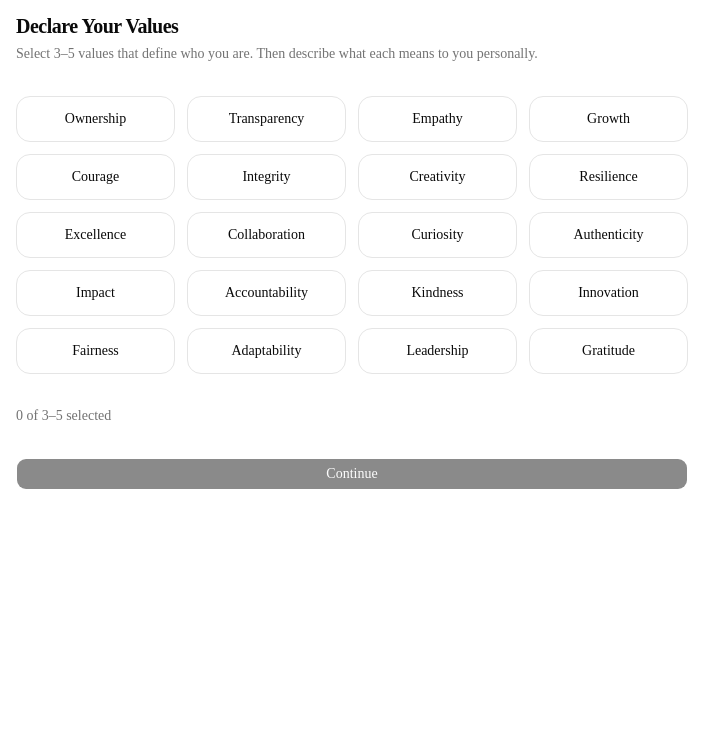
Test: ValuesDeclaration › limits selection to 5 values
The width and height of the screenshot is (705, 732).
Click the button "Ownership".
click(96, 119)  # box [16,96,175,142]
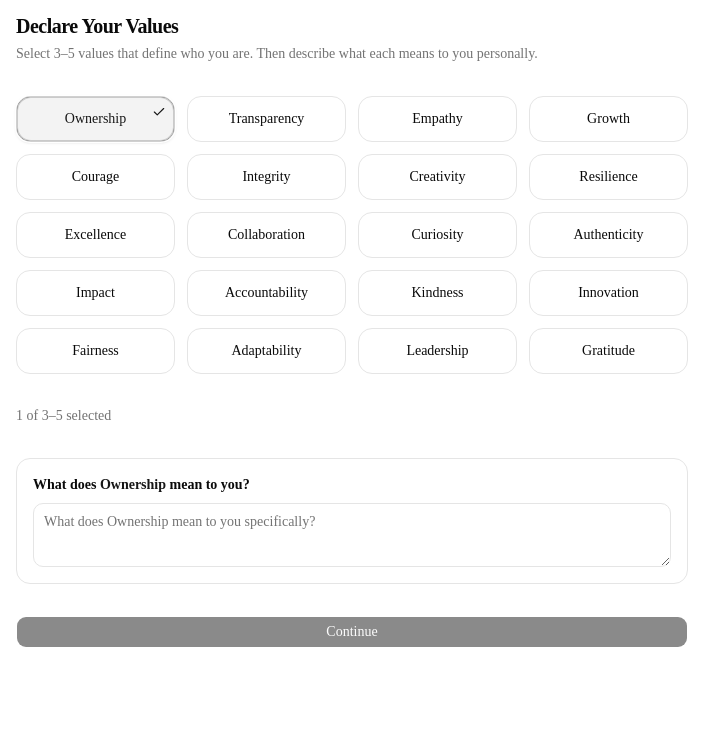
Click the button "Transparency".
click(266, 119)  # box [187,96,346,142]
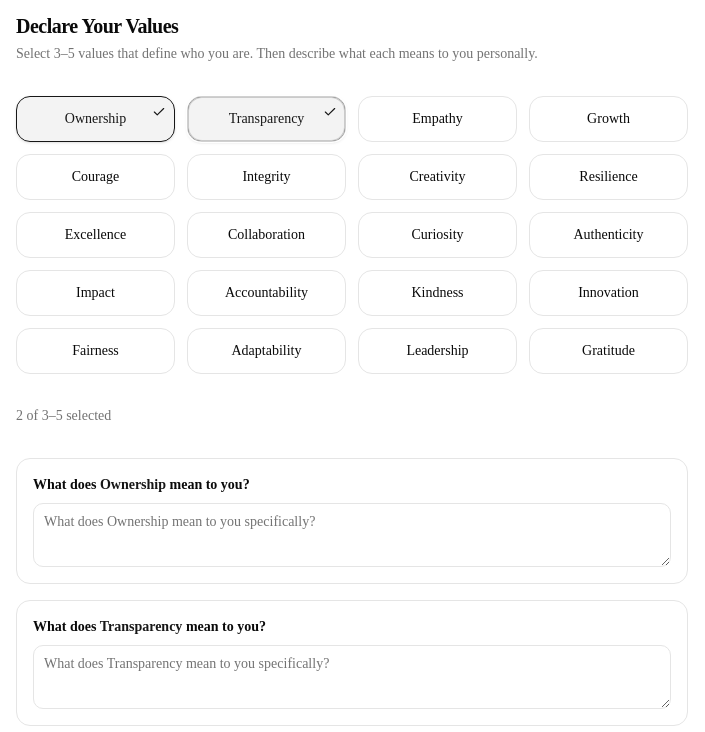
Click the button "Empathy".
click(438, 119)  # box [358,96,517,142]
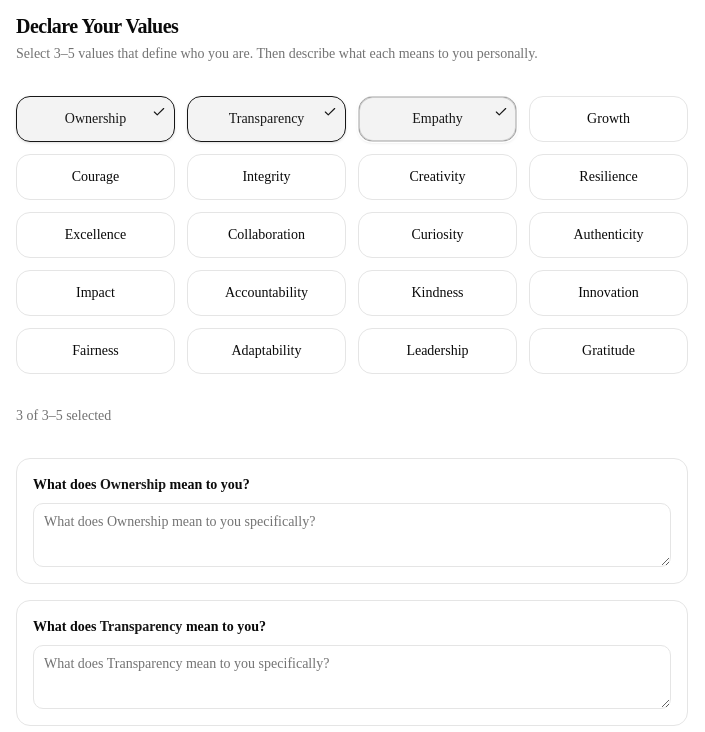
Click the button "Growth".
click(608, 119)  # box [529,96,688,142]
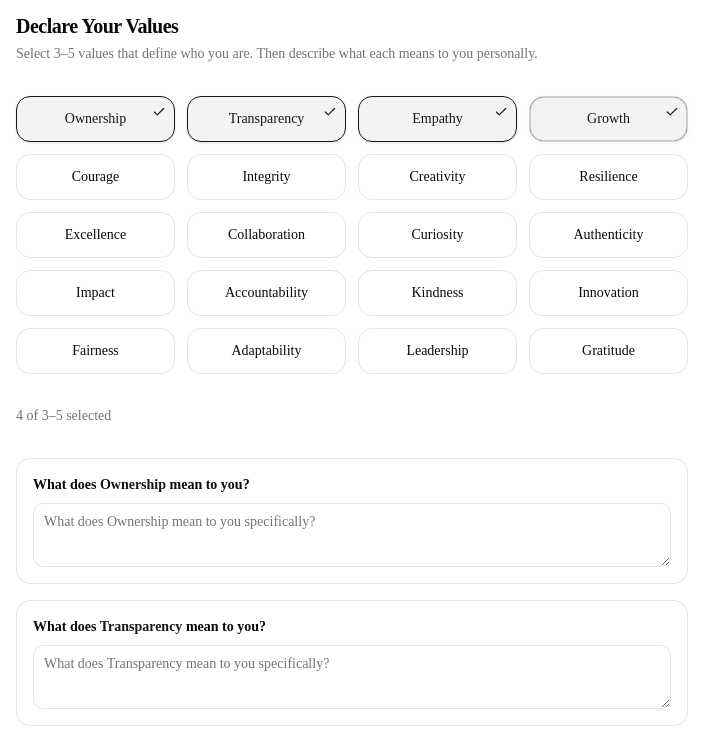
Click the button "Courage".
click(96, 177)  # box [16,154,175,200]
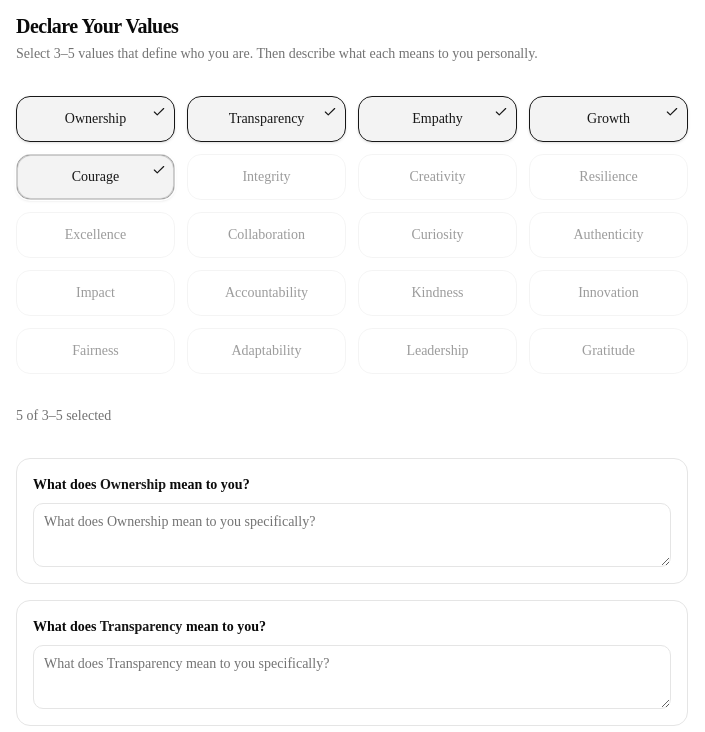
Expected: the text "5 of 3–5 selected" is shown, [16,408,111,423]
Expected: the button "Integrity" is disabled, [187,154,346,200]
